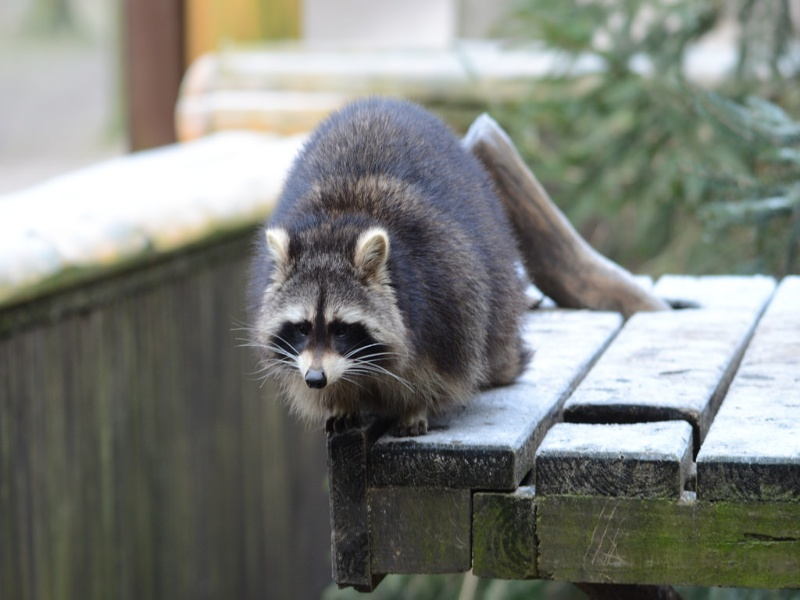raccoon: (242, 93, 520, 441)
